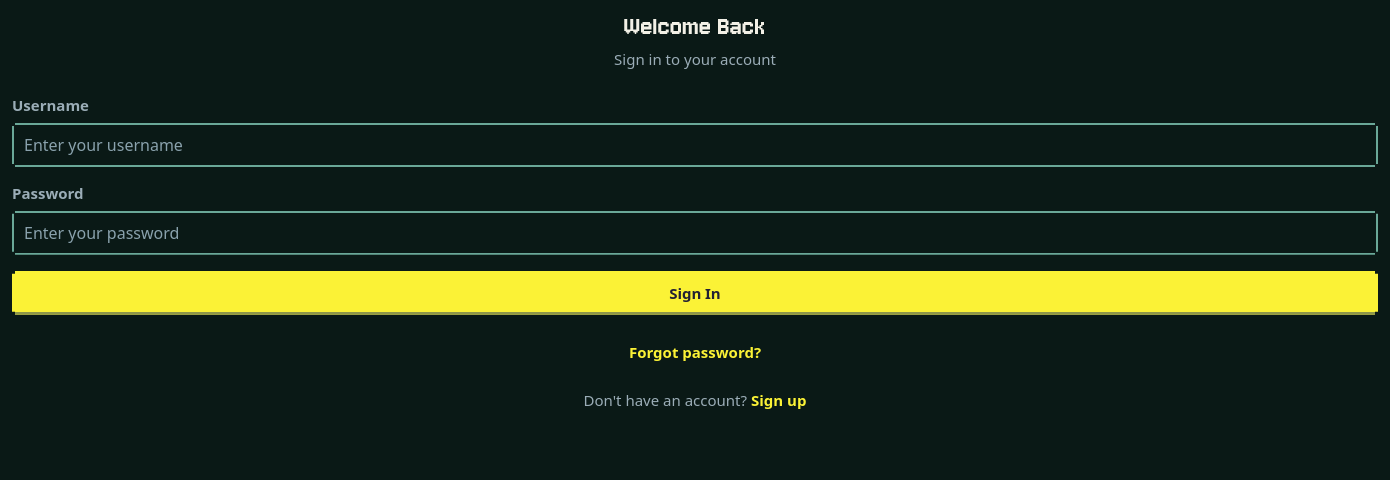
Test case: LoginForm › wrong credentials still show the server message
Type "ana" into the field labelled "Username" at (695, 145), box [12,123,1378,167]
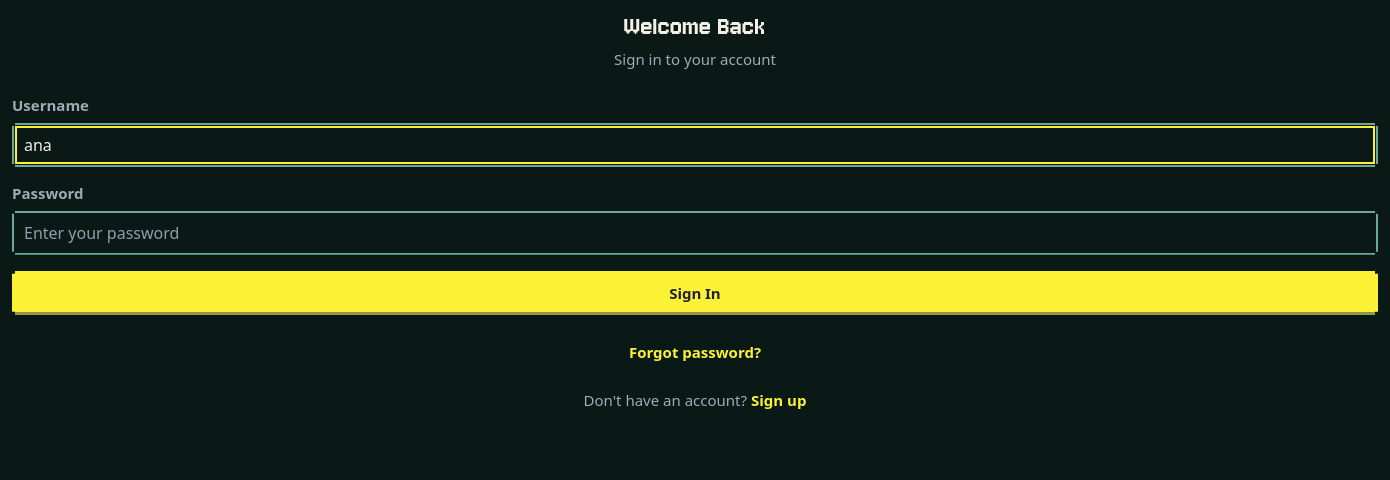
Type "long-enough-1" into the password field labelled "Password" at (695, 233), box [12,211,1378,255]
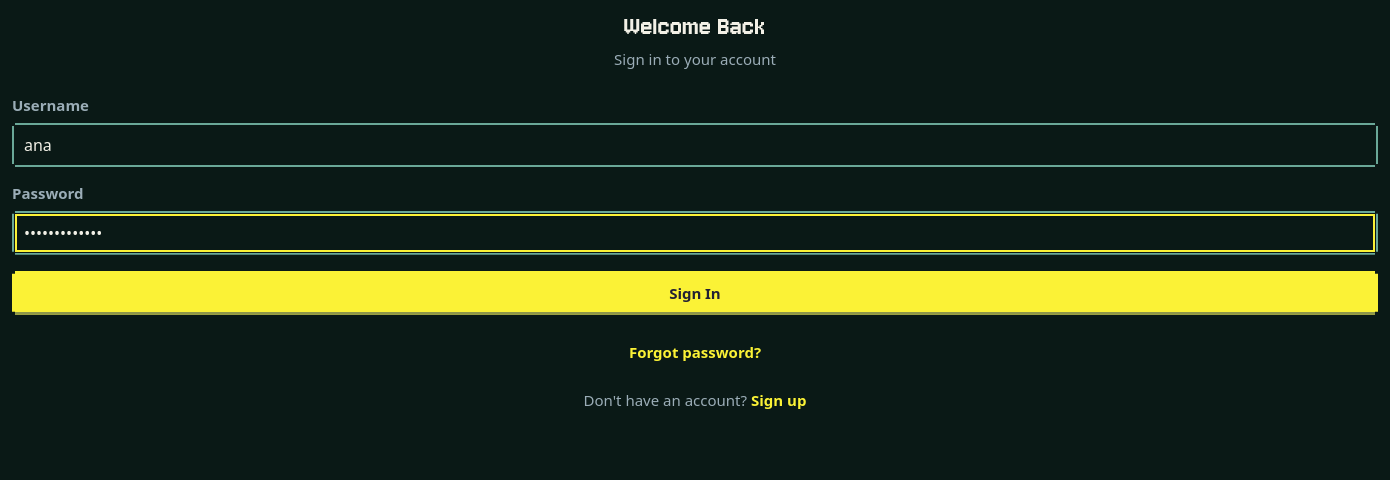
Click the button "Sign In" at (695, 293), box [12,271,1378,315]
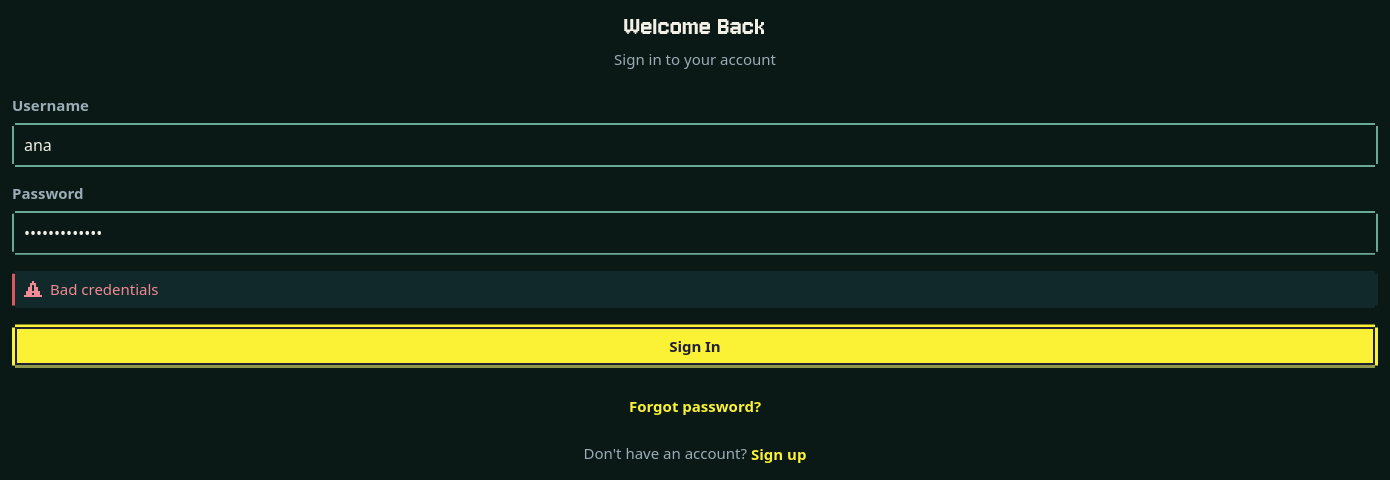
Result: the text "Bad credentials" is shown at [50,279,159,300]
